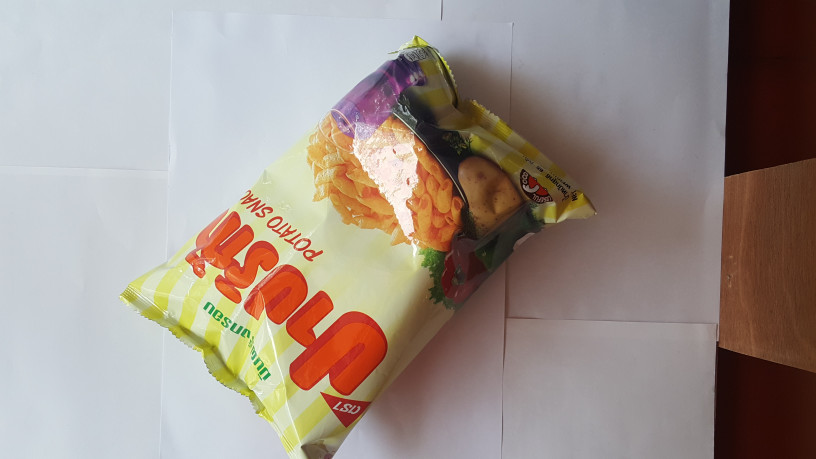paprika: (111, 26, 591, 459)
